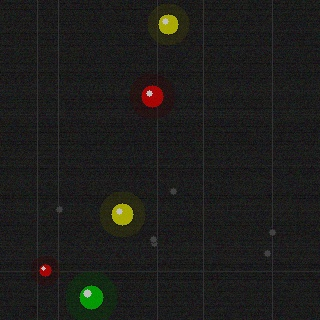green_normal: (77, 283, 105, 311)
red_fault: (139, 83, 165, 109), (37, 262, 53, 278)
yellow_warning: (109, 201, 135, 227), (156, 12, 180, 36)
